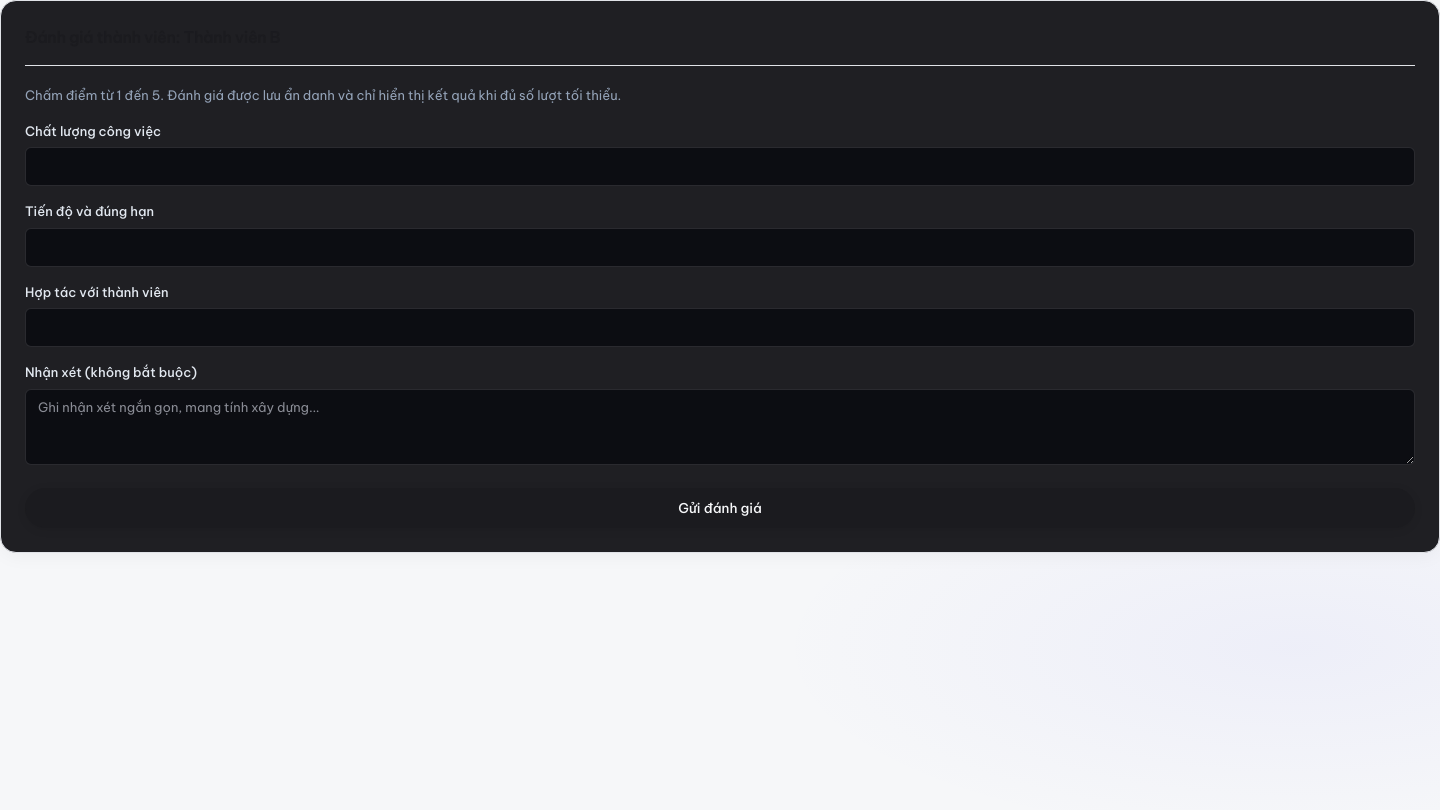
Scenario: ReviewForm › shows the server validation message when submission fails
In the number field labelled "Chất lượng công việc": (720, 166) [25,147,1415,186], type "5"
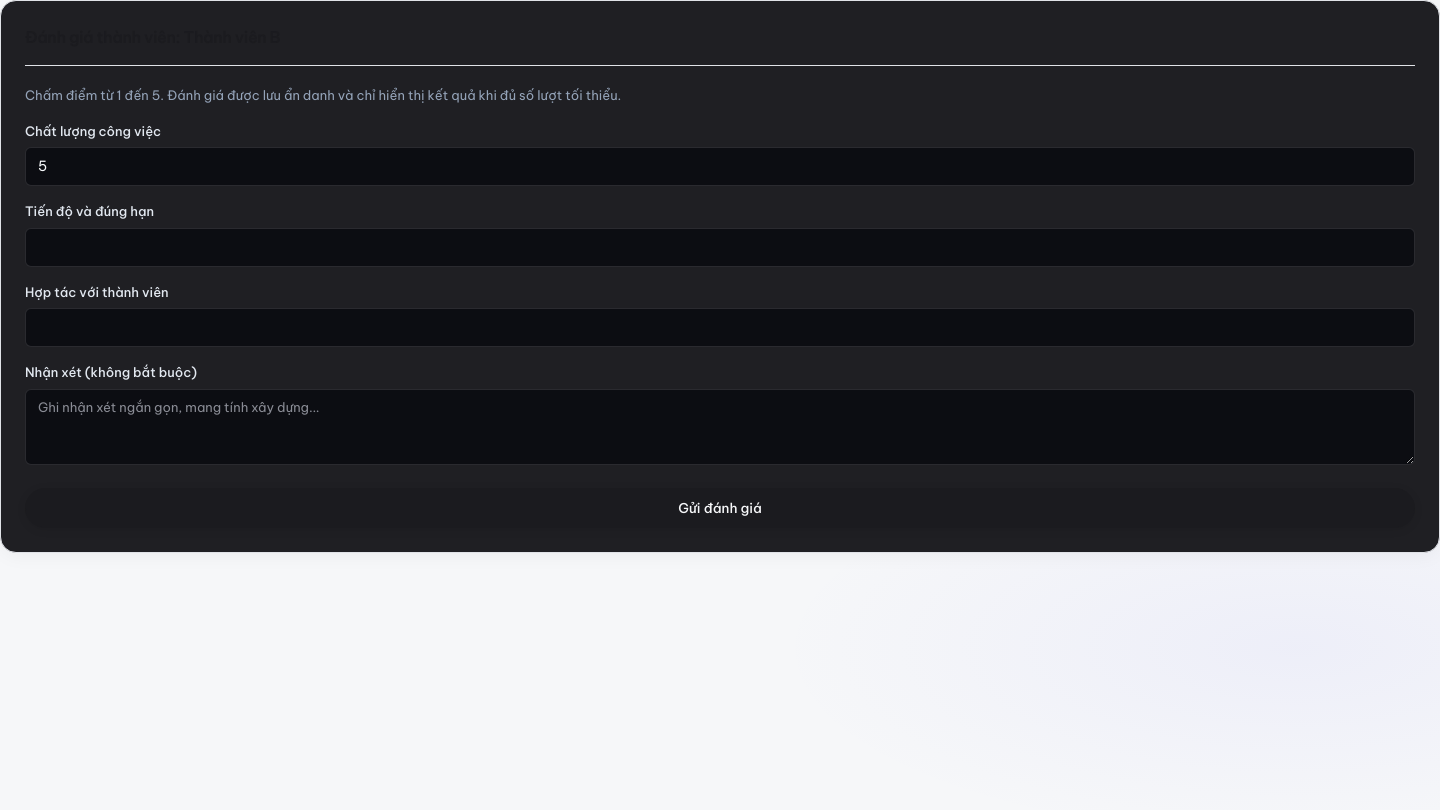
In the number field labelled "Tiến độ và đúng hạn": (720, 247) [25,228,1415,266], type "4"
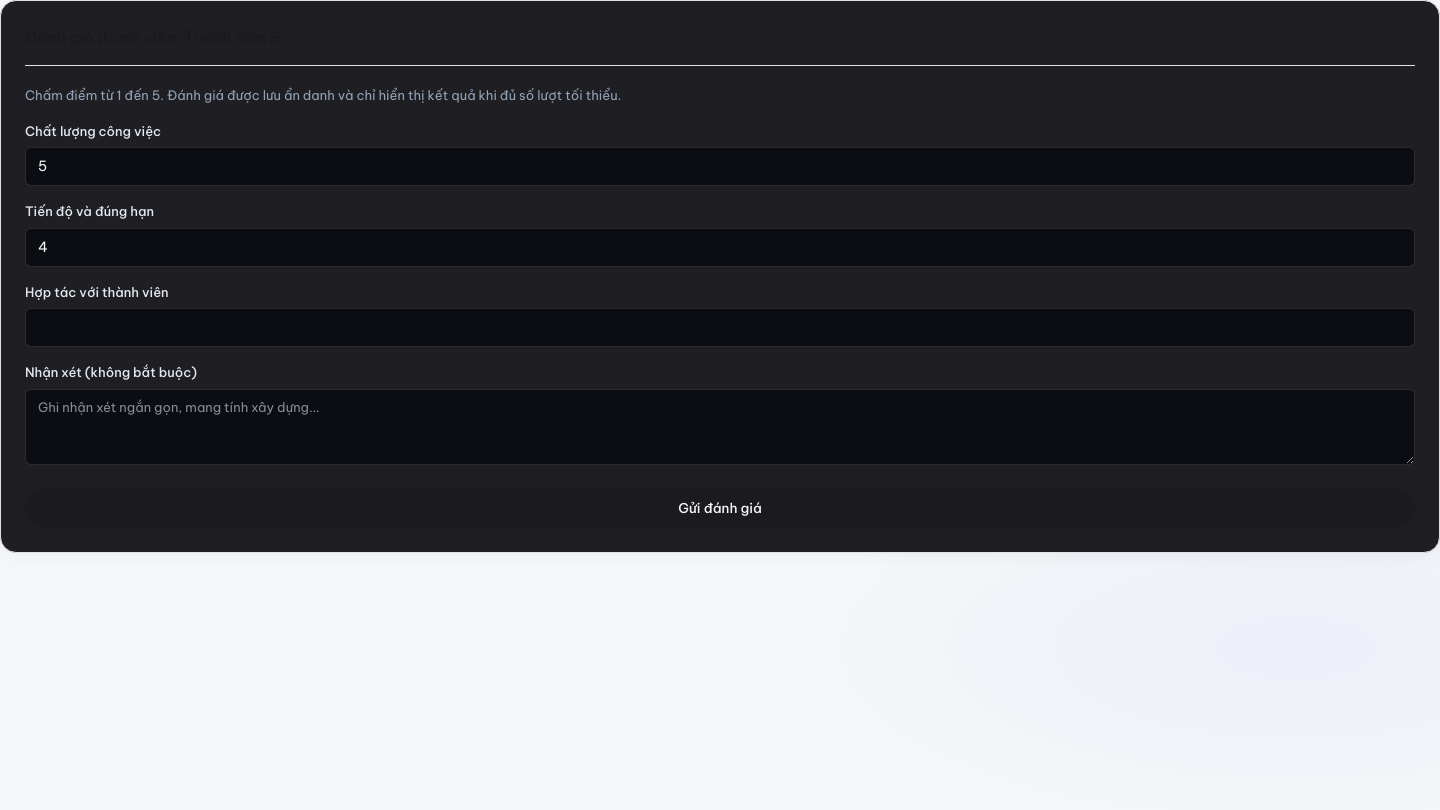
In the number field labelled "Hợp tác với thành viên": (720, 328) [25,308,1415,347], type "3"
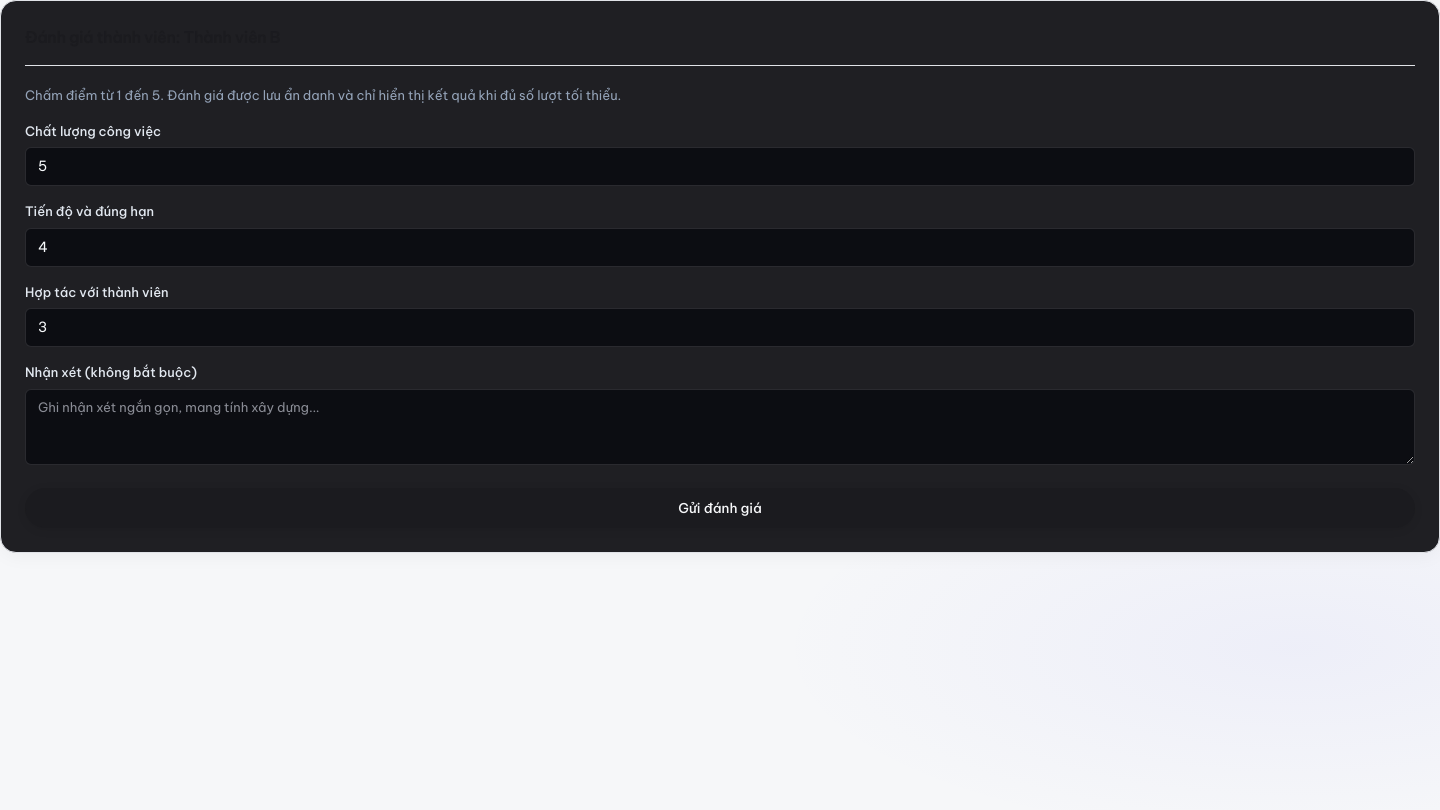
Click the button "Gửi đánh giá": (720, 508) [25,488,1415,528]
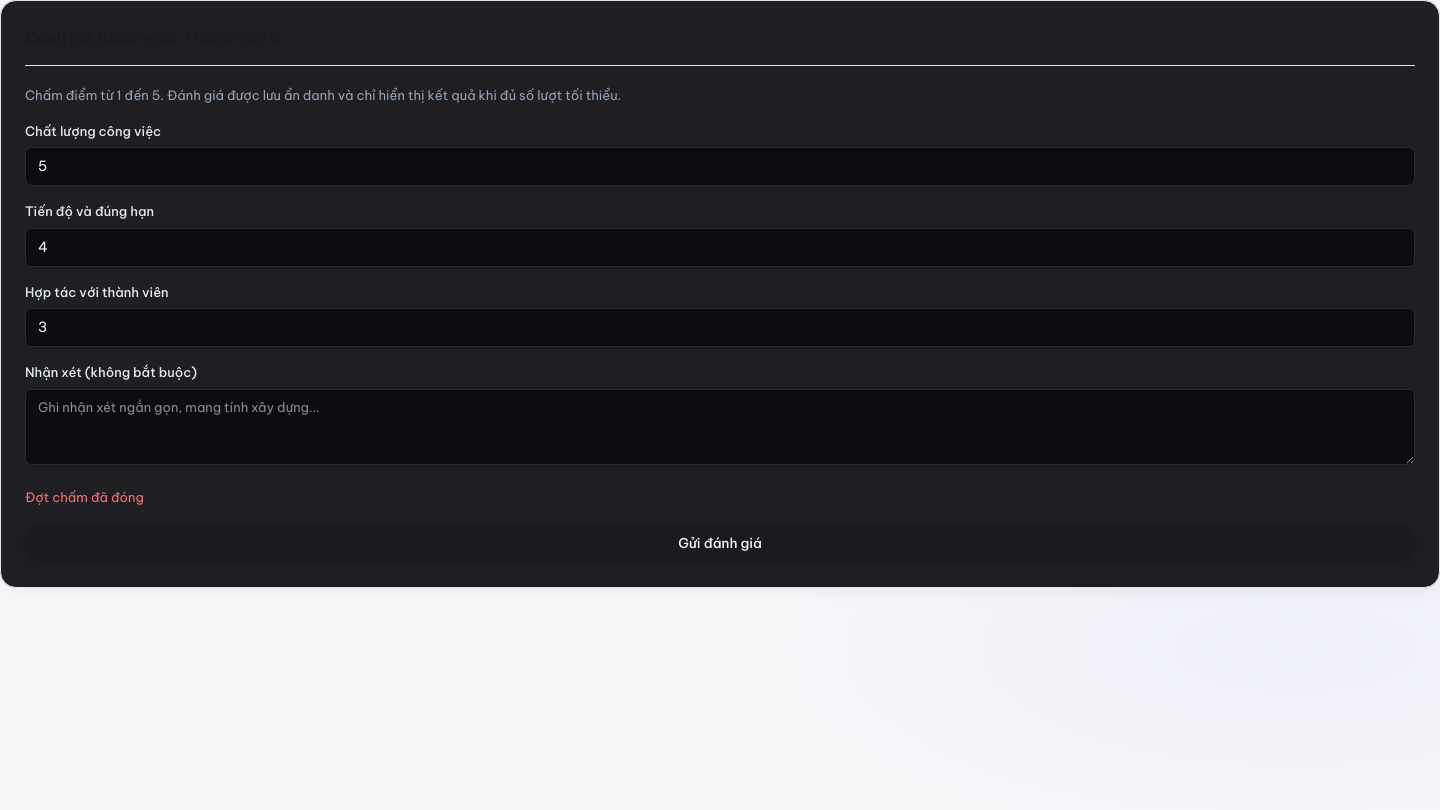
Expected: the message reads "Đợt chấm đã đóng", [25,488,144,504]
